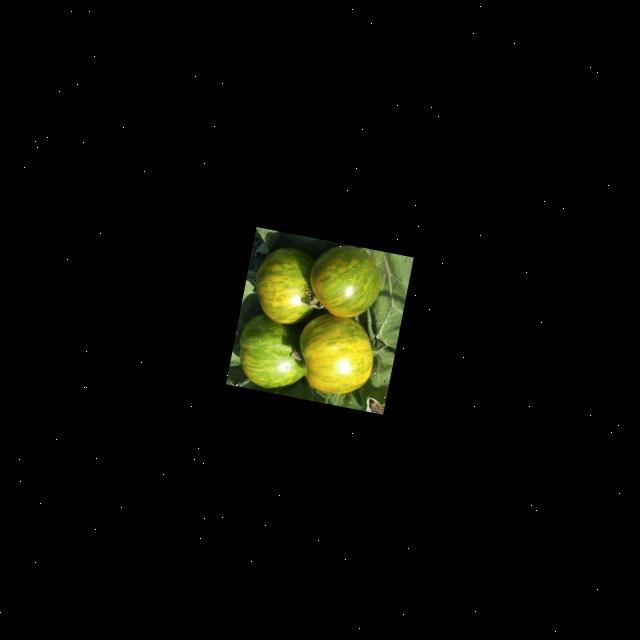tomato: (242, 230, 398, 404)
